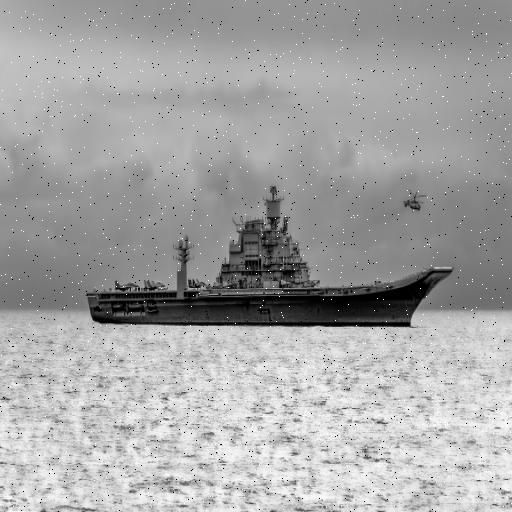Portanaves: (86, 181, 458, 333)
